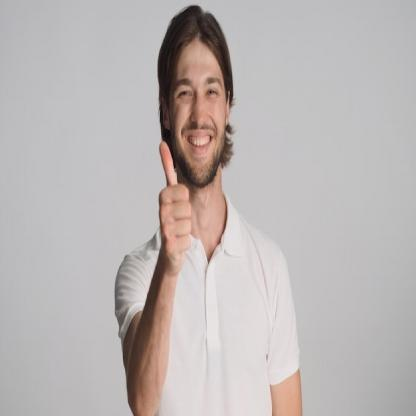thumb_up: (154, 139, 203, 263)
